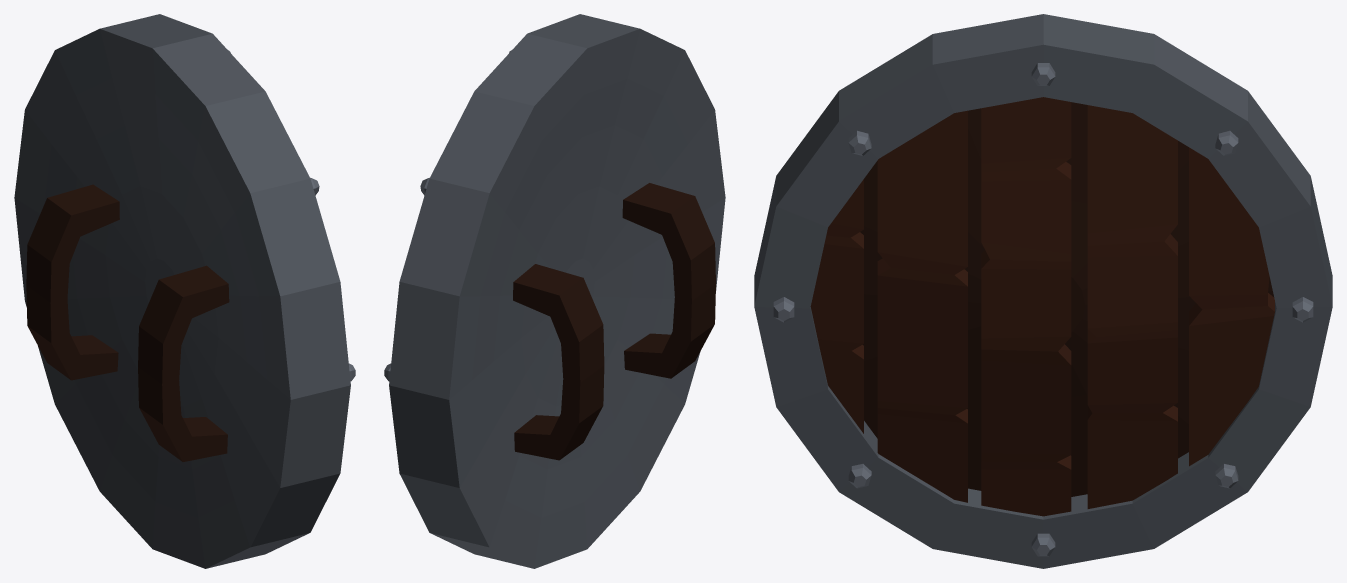
The model's file is Shield_Round.glb.
3 renders of one model, left to right at view 1: azimuth 30°, elevation 25°; view 2: azimuth 150°, elevation 25°; view 3: azimuth 270°, elevation 25°, orthographic. The views are drawn at different scales.
Visible parts, largest first — view 1: Shield_Round; view 2: Shield_Round; view 3: Shield_Round.
Part boxes in pixels (bbox=[...]): Shield_Round: bbox=[14, 14, 355, 568]; Shield_Round: bbox=[384, 14, 725, 568]; Shield_Round: bbox=[754, 14, 1332, 568].
Bounding box in the file's own units: 0.1811 × 0.6 × 0.6.
